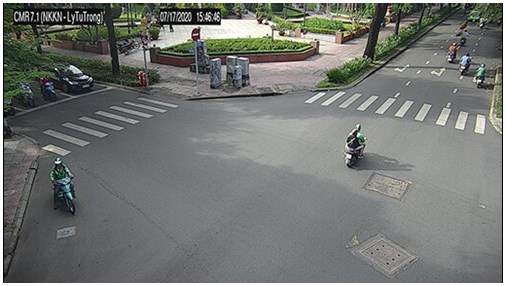xe_hoi: (52, 63, 94, 92)
xe_may: (50, 157, 78, 214), (344, 124, 366, 169), (39, 75, 58, 103), (17, 82, 34, 108), (119, 38, 140, 57), (475, 63, 486, 89), (460, 54, 473, 75), (446, 42, 457, 63), (460, 31, 470, 45), (478, 16, 486, 30)
